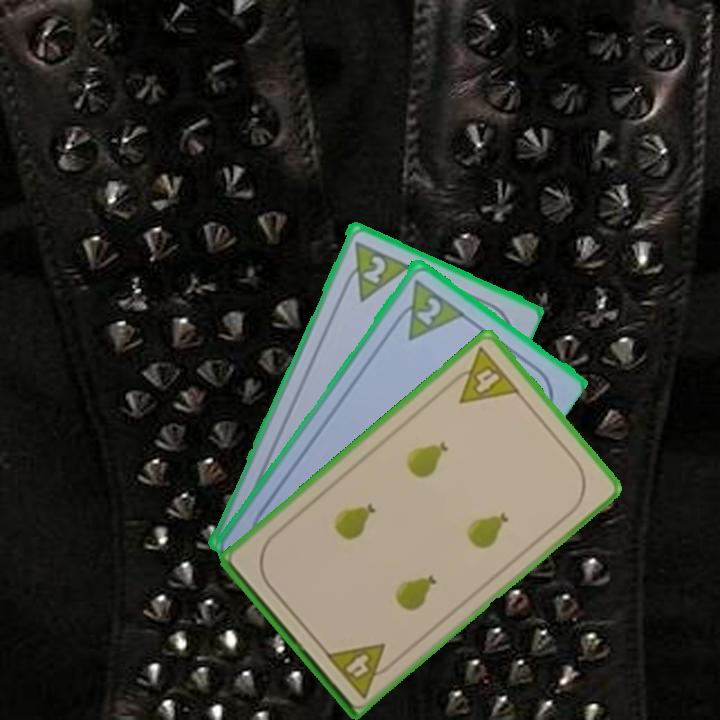2p: (337, 236, 411, 304), (412, 292, 444, 328)
4p: (442, 343, 523, 407), (321, 639, 400, 701)
